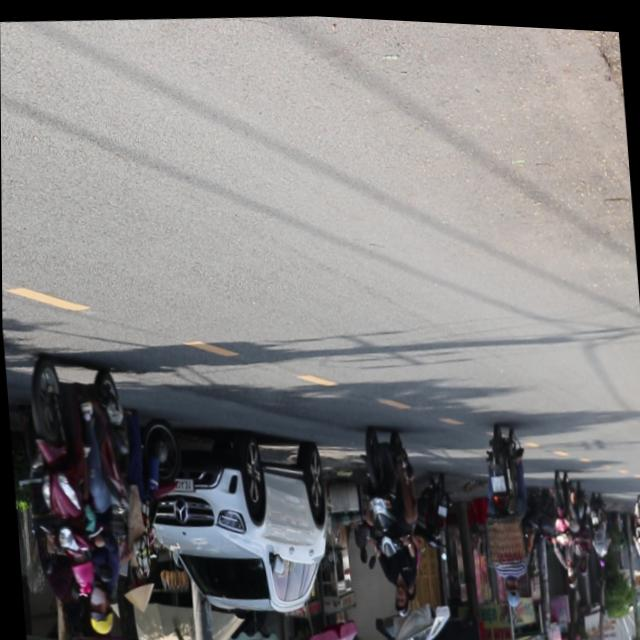helmet: (84, 581, 115, 637), (392, 582, 408, 615)
licenseplate: (20, 348, 145, 640), (357, 418, 426, 618), (476, 415, 536, 606)
motorcyclist: (502, 576, 519, 604)
nohelmet: (490, 470, 505, 488)
